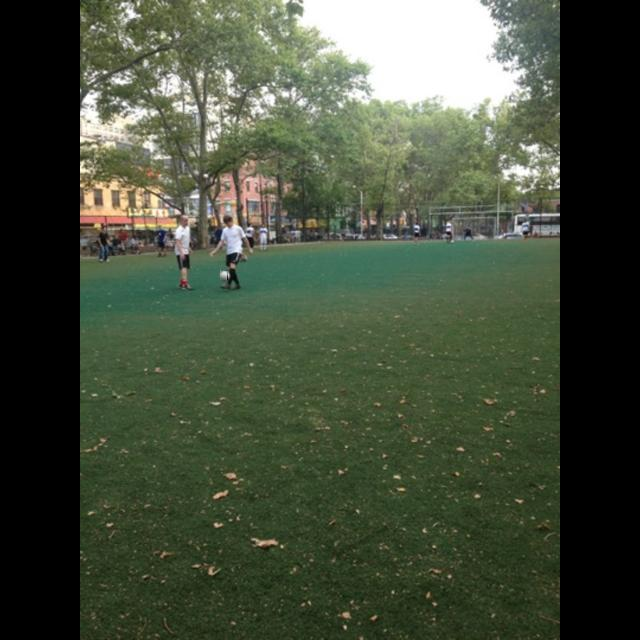Football: (220, 270, 228, 280)
